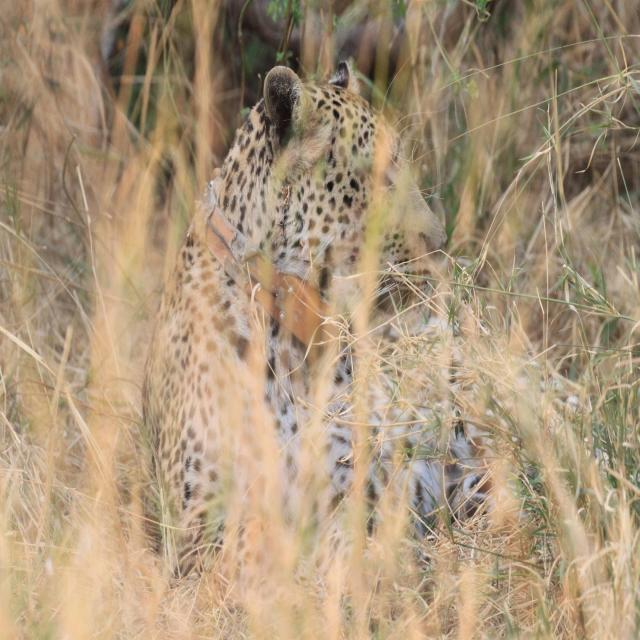Leopard: (140, 68, 602, 596)
